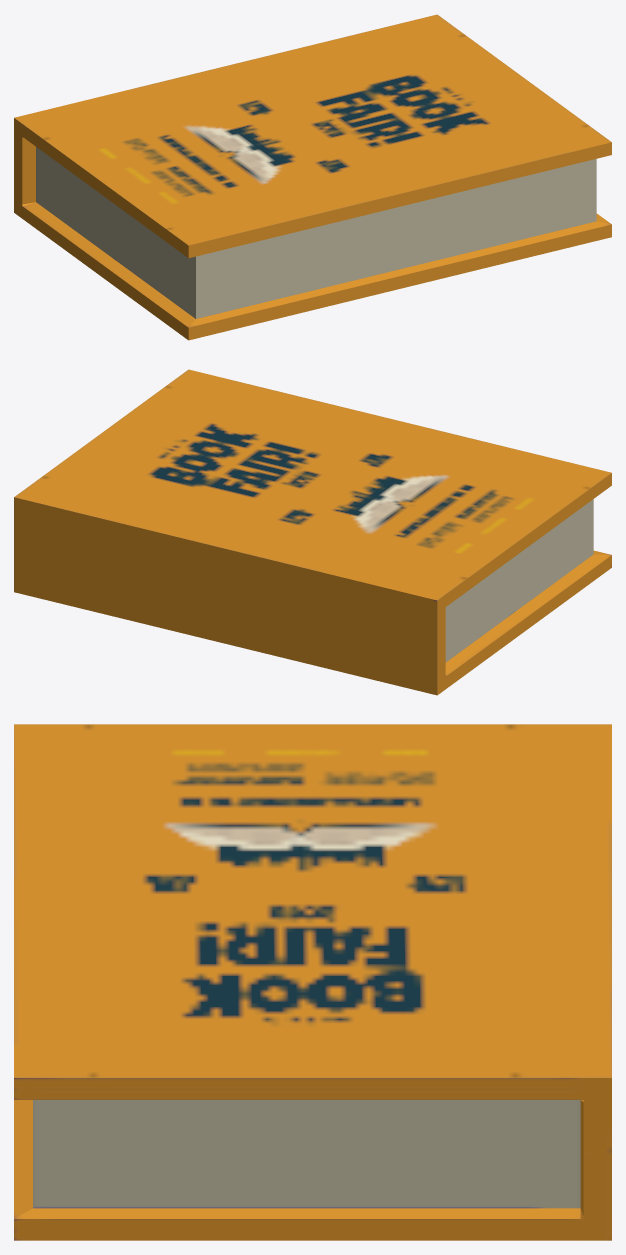
File: Book 2.glb
3 views of the same model, one above another, from view 1: azimuth 30°, elevation 25°; view 2: azimuth 150°, elevation 25°; view 3: azimuth 270°, elevation 25° (orthographic). The views are drawn at different scales.
Visible parts, largest first — view 1: Cube.099; view 2: Cube.099; view 3: Cube.099.
Boxes of the visible parts, <box> form: Cube.099: <box>14,14,611,340</box>; Cube.099: <box>14,369,611,695</box>; Cube.099: <box>14,724,611,1240</box>.
Bounding box in the file's own units: 13.16 × 2.82 × 9.4.
Materials: 1 (1 with a texture image).
